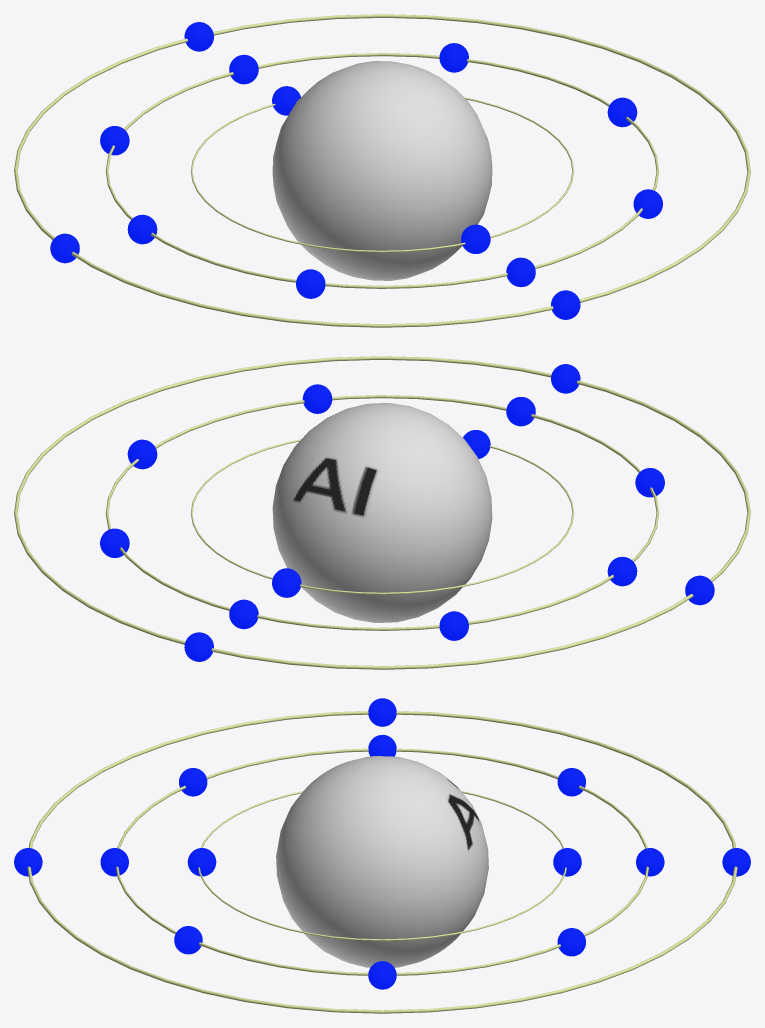
The picture shows the model from 3 angles, top to bottom: view 1: azimuth 30°, elevation 25°; view 2: azimuth 150°, elevation 25°; view 3: azimuth 270°, elevation 25°; orthographic projection. The views are drawn at different scales.
Visible parts, largest first — view 1: 球体, 贝塞尔圆环.002, 贝塞尔圆环.001, 贝塞尔圆环, 球体.008, 球体.012, 球体.009, 球体.004, 球体.002, 球体.003, 球体.007, 球体.006 (+5 smaller); view 2: 球体, 贝塞尔圆环.002, 贝塞尔圆环.001, 贝塞尔圆环, 球体.005, 球体.001, 球体.010, 球体.007, 球体.003, 球体.012, 球体.009, 球体.006 (+5 smaller); view 3: 球体, 贝塞尔圆环.002, 贝塞尔圆环.001, 贝塞尔圆环, 球体.013, 球体.011, 球体.002, 球体.010, 球体.004, 球体.001, 球体.008, 球体.005 (+5 smaller).
Boxes of the visible parts, bbox=[...] form: 球体: bbox=[272, 61, 492, 280]; 贝塞尔圆环.002: bbox=[14, 14, 750, 327]; 贝塞尔圆环.001: bbox=[105, 53, 659, 288]; 贝塞尔圆环: bbox=[190, 97, 574, 252]; 球体.008: bbox=[296, 269, 325, 298]; 球体.012: bbox=[551, 290, 580, 319]; 球体.009: bbox=[506, 257, 535, 287]; 球体.004: bbox=[461, 224, 490, 253]; 球体.002: bbox=[439, 43, 468, 72]; 球体.003: bbox=[184, 22, 213, 51]; 球体.007: bbox=[229, 54, 258, 84]; 球体.006: bbox=[127, 214, 157, 244]; 球体: bbox=[272, 403, 492, 622]; 贝塞尔圆环.002: bbox=[14, 356, 750, 669]; 贝塞尔圆环.001: bbox=[105, 395, 659, 630]; 贝塞尔圆环: bbox=[190, 439, 574, 594]; 球体.005: bbox=[439, 611, 468, 640]; 球体.001: bbox=[272, 568, 301, 597]; 球体.010: bbox=[302, 384, 332, 413]; 球体.007: bbox=[229, 599, 258, 629]; 球体.003: bbox=[184, 632, 213, 661]; 球体.012: bbox=[551, 364, 580, 393]; 球体.009: bbox=[506, 397, 535, 426]; 球体.006: bbox=[607, 556, 637, 586]; 球体: bbox=[276, 756, 488, 967]; 贝塞尔圆环.002: bbox=[27, 711, 737, 1013]; 贝塞尔圆环.001: bbox=[116, 748, 648, 975]; 贝塞尔圆环: bbox=[198, 791, 566, 940]; 球体.013: bbox=[368, 698, 396, 726]; 球体.011: bbox=[368, 961, 396, 989]; 球体.002: bbox=[557, 928, 585, 956]; 球体.010: bbox=[174, 926, 202, 954]; 球体.004: bbox=[187, 848, 216, 876]; 球体.001: bbox=[553, 848, 581, 876]; 球体.008: bbox=[179, 768, 207, 796]; 球体.005: bbox=[557, 768, 585, 796].
Size of the model in its own units: 2.38 by 0.6996 by 2.42.
5 materials, 1 textured.
